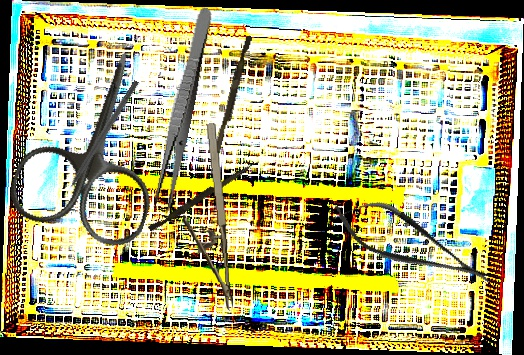Dressing Forceps: (151, 5, 215, 212)
Hook Surgical: (59, 78, 140, 202)
Iris Scissors: (3, 31, 193, 254)
Micro Scissor: (323, 183, 502, 306)
Needle Holder: (176, 122, 234, 314)
Pusher: (147, 158, 256, 235), (208, 34, 253, 176)
